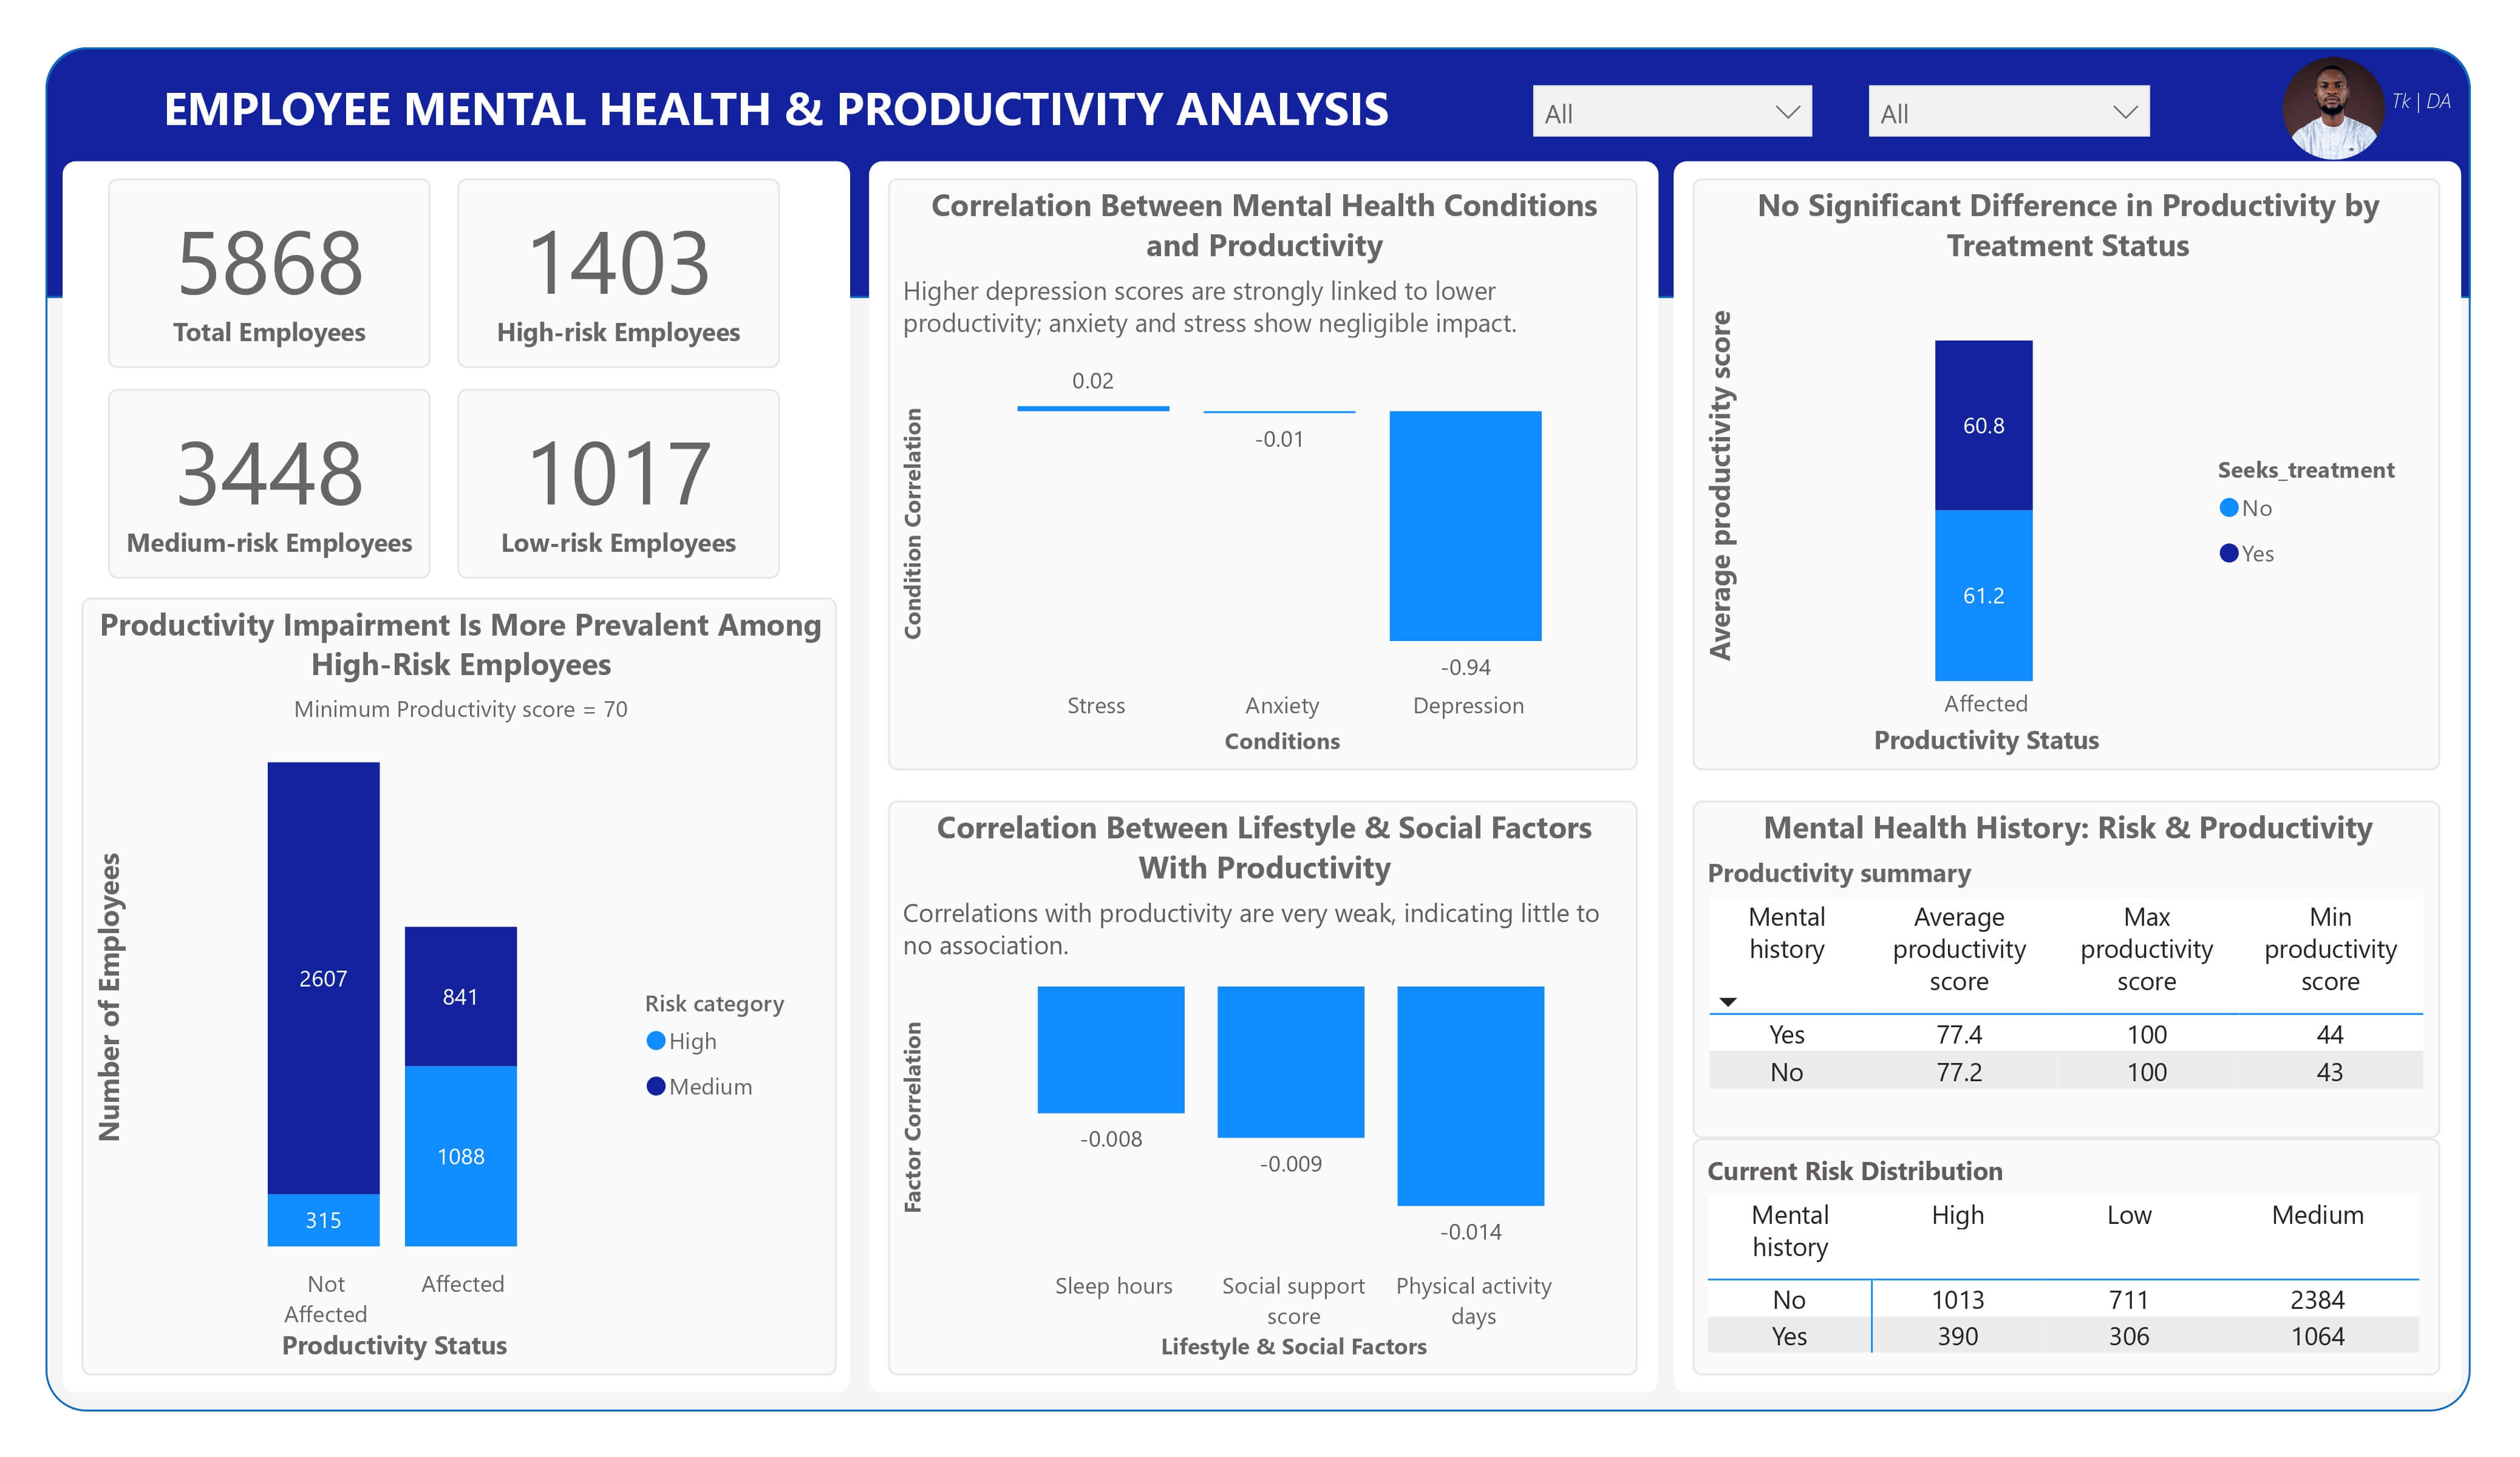

What the dashboard file says about the page in this screenshot:
{"tool":"powerbi","page":{"name":"Page 1","canvas":[1280,720],"ordinal":0},"visuals":[{"type":"shape","box":[0,1.1,1277.8,718.9],"z":0},{"type":"shape","box":[0,1.1,1277.8,132.2],"z":1000},{"type":"shape","box":[8.9,61.1,415.6,648.9],"z":2000},{"type":"shape","box":[857.8,61.1,415.6,648.9],"z":3000},{"type":"shape","box":[434.4,61.1,415.6,648.9],"z":4000},{"type":"card","fields":{"Values":["exported_mental_staging.Total Employees"]},"box":[33.3,70,170,100],"z":5000},{"type":"card","fields":{"Values":["exported_mental_staging.Low-risk Employees"]},"box":[216.7,181.1,170,100],"z":6000},{"type":"card","fields":{"Values":["exported_mental_staging.Medium-risk Employees"]},"box":[33.3,181.1,170,100],"z":7000},{"type":"card","fields":{"Values":["exported_mental_staging.High-risk Employees"]},"box":[216.7,70,170,100],"z":8000},{"type":"columnChart","title":"Productivity Impairment Is More Prevalent Among High-Risk Employees","fields":{"Y":["exported_mental_staging.Total Employees"],"Category":["exported_mental_staging.Productivity Status"],"Series":["exported_mental_staging.mental_health_risk"]},"box":[18.9,291.1,397.8,410],"z":9000},{"type":"columnChart","title":"No Significant Difference in Productivity by Treatment Status","fields":{"Category":["exported_mental_staging.Productivity Status"],"Y":["Avg(exported_mental_staging.productivity_score)"],"Series":["exported_mental_staging.seeks__treatment("]},"box":[867.8,70,394.4,312.2],"z":10000},{"type":"columnChart","title":"Correlation Between Mental Health Conditions and Productivity","fields":{"Category":["Conditions.Conditions"],"Y":["Conditions.Condition Correlated"]},"box":[444.4,70,394.4,312],"z":11000},{"type":"columnChart","title":"Correlation Between Lifestyle & Social Factors With Productivity","fields":{"Category":["Factors.Ls-Factors"],"Y":["Factors.Factors Correlated"]},"box":[444.4,397.8,394.4,303.3],"z":12000},{"type":"image","box":[1174.4,0,63.3,65.6],"z":13000},{"type":"textbox","box":[1182.2,11.1,91.1,46.7],"z":14000},{"type":"slicer","fields":{"Values":["exported_mental_staging.gender"]},"box":[951.1,11.1,167.8,50],"z":15000},{"type":"slicer","fields":{"Values":["exported_mental_staging.work_environment"]},"box":[774.4,11.1,167,50],"z":16000},{"type":"tableEx","title":"Mental Health History: Risk & Productivity","fields":{"Values":["exported_mental_staging.Mental history","exported_mental_staging.Average productivity score","exported_mental_staging.Max productivity score","exported_mental_staging.Min productivity score"]},"box":[867.8,397.8,394.4,177.8],"z":17000},{"type":"pivotTable","fields":{"Rows":["exported_mental_staging.Mental history"],"Columns":["exported_mental_staging.mental_health_risk"],"Values":["exported_mental_staging.Total Employees"]},"box":[867.8,575.6,394.4,125.6],"z":18000},{"type":"textbox","box":[51.1,11.1,667.8,58.9],"z":19000}]}

Visuals, with their boxes on the page's 1280x720 design canvas (x1, y1, x2, y2). These are canvas units, not pixel positions in the 2520x1457 screenshot, which may show the page scaled, cropped or inside an application window:
shape: bbox=[0, 1, 1278, 720]
shape: bbox=[0, 1, 1278, 133]
shape: bbox=[9, 61, 424, 710]
shape: bbox=[858, 61, 1273, 710]
shape: bbox=[434, 61, 850, 710]
card - exported_mental_staging.Total Employees: bbox=[33, 70, 203, 170]
card - exported_mental_staging.Low-risk Employees: bbox=[217, 181, 387, 281]
card - exported_mental_staging.Medium-risk Employees: bbox=[33, 181, 203, 281]
card - exported_mental_staging.High-risk Employees: bbox=[217, 70, 387, 170]
"Productivity Impairment Is More Prevalent Among High-Risk Employees" columnChart: bbox=[19, 291, 417, 701]
"No Significant Difference in Productivity by Treatment Status" columnChart: bbox=[868, 70, 1262, 382]
"Correlation Between Mental Health Conditions and Productivity" columnChart: bbox=[444, 70, 839, 382]
"Correlation Between Lifestyle & Social Factors With Productivity" columnChart: bbox=[444, 398, 839, 701]
image: bbox=[1174, 0, 1238, 66]
textbox: bbox=[1182, 11, 1273, 58]
slicer - exported_mental_staging.gender: bbox=[951, 11, 1119, 61]
slicer - exported_mental_staging.work_environment: bbox=[774, 11, 941, 61]
"Mental Health History: Risk & Productivity" tableEx: bbox=[868, 398, 1262, 576]
pivotTable - exported_mental_staging.Mental history x exported_mental_staging.mental_health_risk: bbox=[868, 576, 1262, 701]
textbox: bbox=[51, 11, 719, 70]
